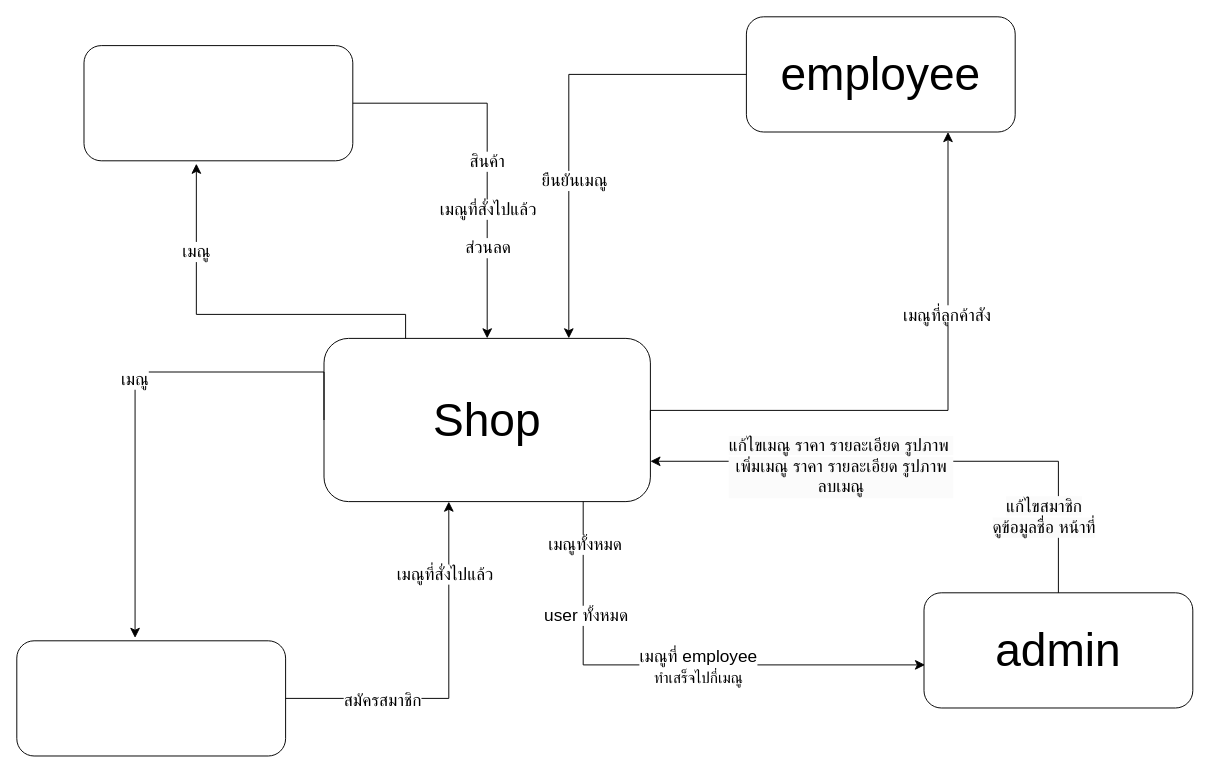
Some shapes in this 1210 by 773 pixel diagram are drawn without their labels. The centre of each missing label's shape, as x and y in pixels:
member: pixel 218 103
user: pixel 151 698
